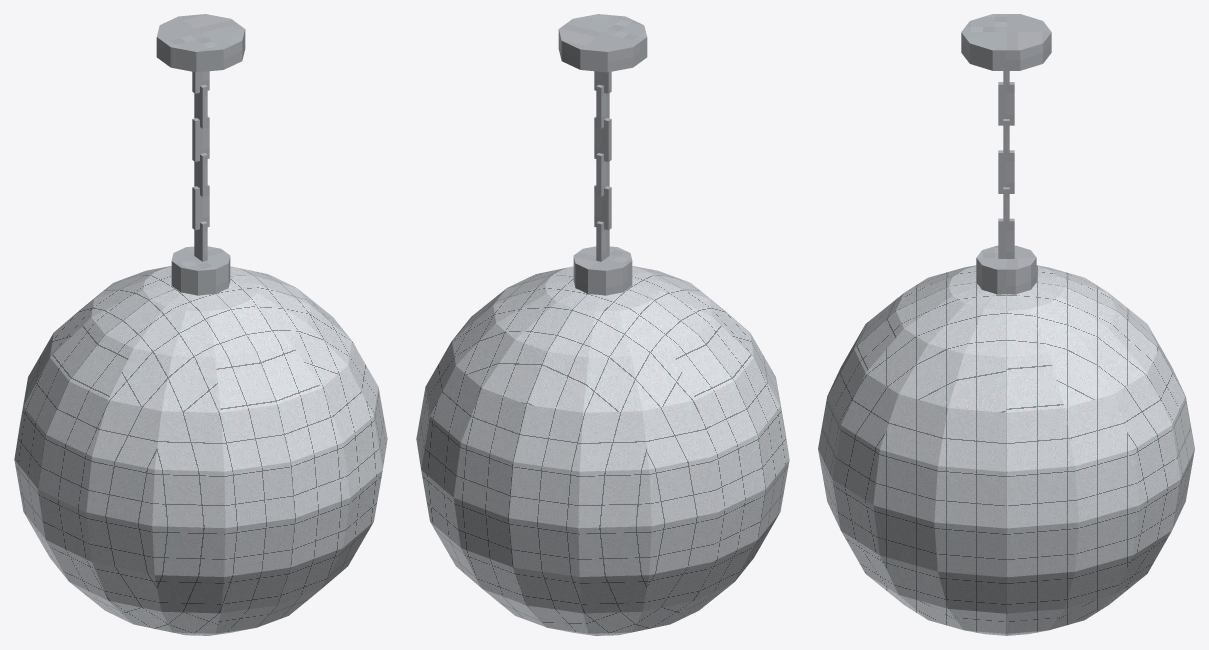
3 views of the same model, side by side, from view 1: azimuth 30°, elevation 25°; view 2: azimuth 150°, elevation 25°; view 3: azimuth 270°, elevation 25° (orthographic).
Parts seen in each view (by area): view 1: Decor_disco_ball; view 2: Decor_disco_ball; view 3: Decor_disco_ball.
Boxes of the visible parts, x1=… form: Decor_disco_ball: x1=14, y1=14, x2=387, y2=635; Decor_disco_ball: x1=416, y1=14, x2=789, y2=635; Decor_disco_ball: x1=818, y1=14, x2=1194, y2=635.
Size of the model in its own units: 0.5 by 0.86 by 0.5.
2 materials, 2 textured.
